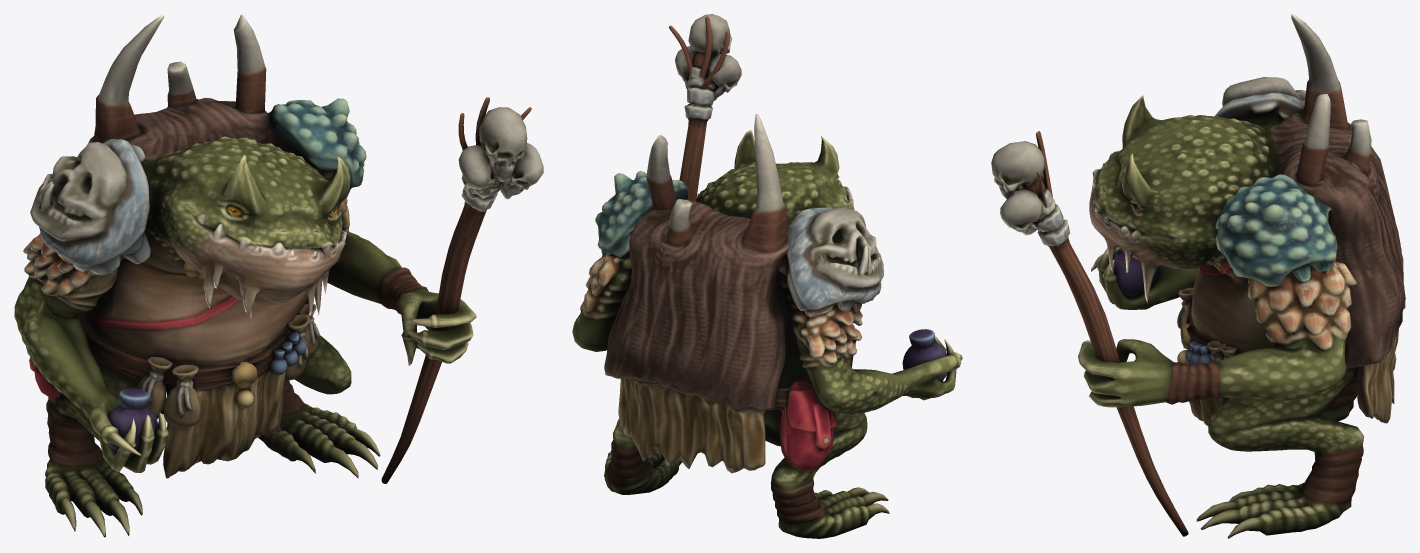
Rendered from MZ4250 - Green Slaad.glb.
3 renders of one model, left to right at view 1: azimuth 30°, elevation 25°; view 2: azimuth 150°, elevation 25°; view 3: azimuth 270°, elevation 25°, orthographic. The views are drawn at different scales.
Visible parts, largest first — view 1: body_high.002, skull_high.002, staff_high.002, bag_high.002, jar_high.002, medal_high.002; view 2: body_high.002, staff_high.002, skull_high.002, jar_high.002, sticks_high.002; view 3: body_high.002, staff_high.002, skull_high.002, jar_high.002, bag_high.002.
Boxes of the visible parts, left/top/right/bottom form: body_high.002: left=14, top=14, right=476, bottom=537; skull_high.002: left=458, top=107, right=543, bottom=199; staff_high.002: left=381, top=174, right=500, bottom=483; bag_high.002: left=136, top=303, right=319, bottom=427; jar_high.002: left=108, top=331, right=306, bottom=456; medal_high.002: left=183, top=262, right=257, bottom=387; body_high.002: left=572, top=114, right=962, bottom=538; staff_high.002: left=679, top=51, right=717, bottom=201; skull_high.002: left=675, top=14, right=741, bottom=100; jar_high.002: left=902, top=329, right=947, bottom=381; sticks_high.002: left=669, top=16, right=729, bottom=89; body_high.002: left=1078, top=14, right=1405, bottom=538; staff_high.002: left=1024, top=181, right=1188, bottom=536; skull_high.002: left=991, top=141, right=1045, bottom=235; jar_high.002: left=1113, top=249, right=1211, bottom=364; bag_high.002: left=1177, top=287, right=1237, bottom=401.
Size of the model in its own units: 4.99 by 5.79 by 4.88.
Materials: 1 (1 with a texture image).
